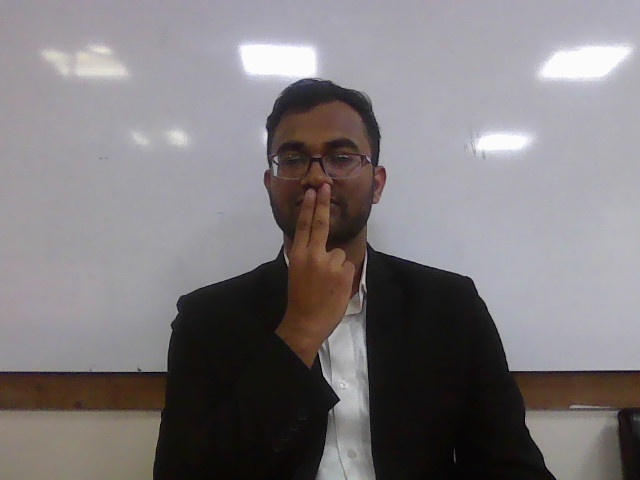Bak: (285, 183, 356, 329)
